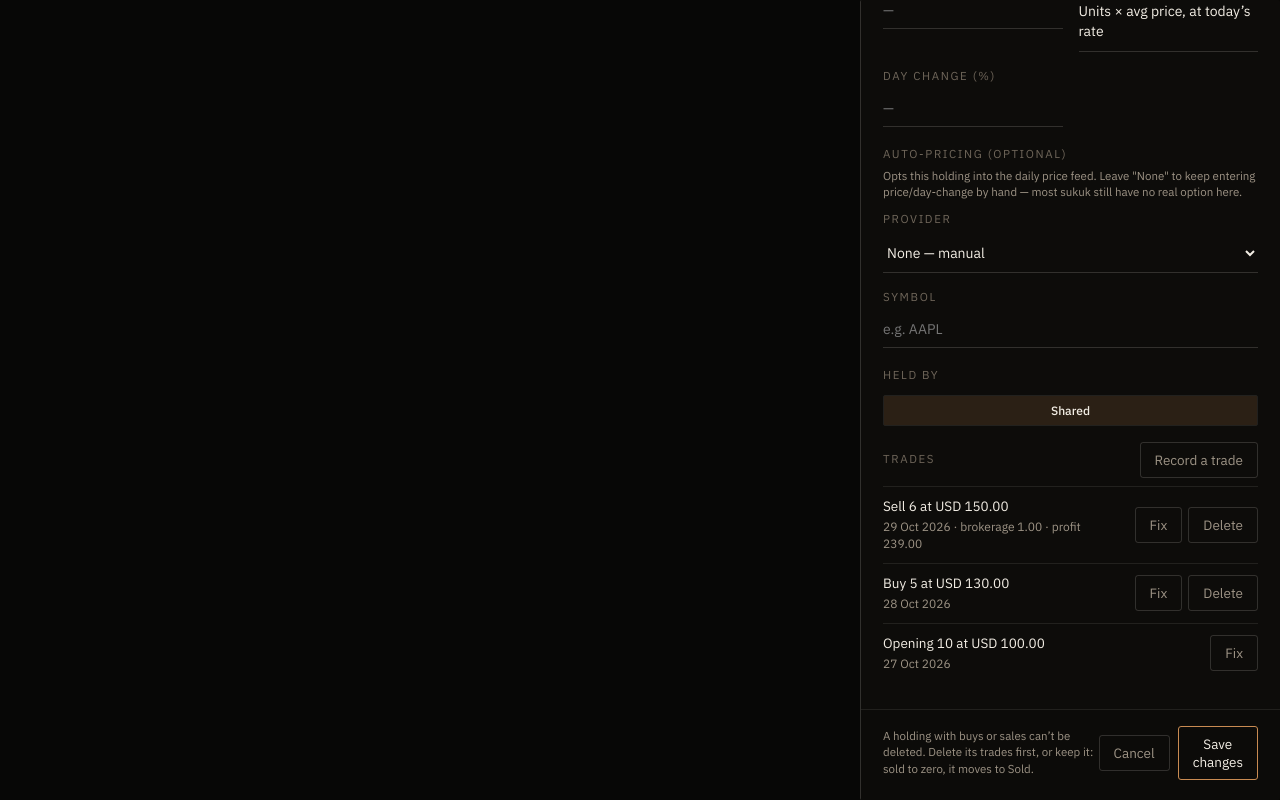
a holding's trades › asks before deleting a trade, with what it would undo
This screenshot has width=1280, height=800.
(page scrolled)
Step 1. Click the button with aria-label "Delete Sell 6 at USD 150.00" → click(1223, 525), box [1188, 507, 1258, 543]
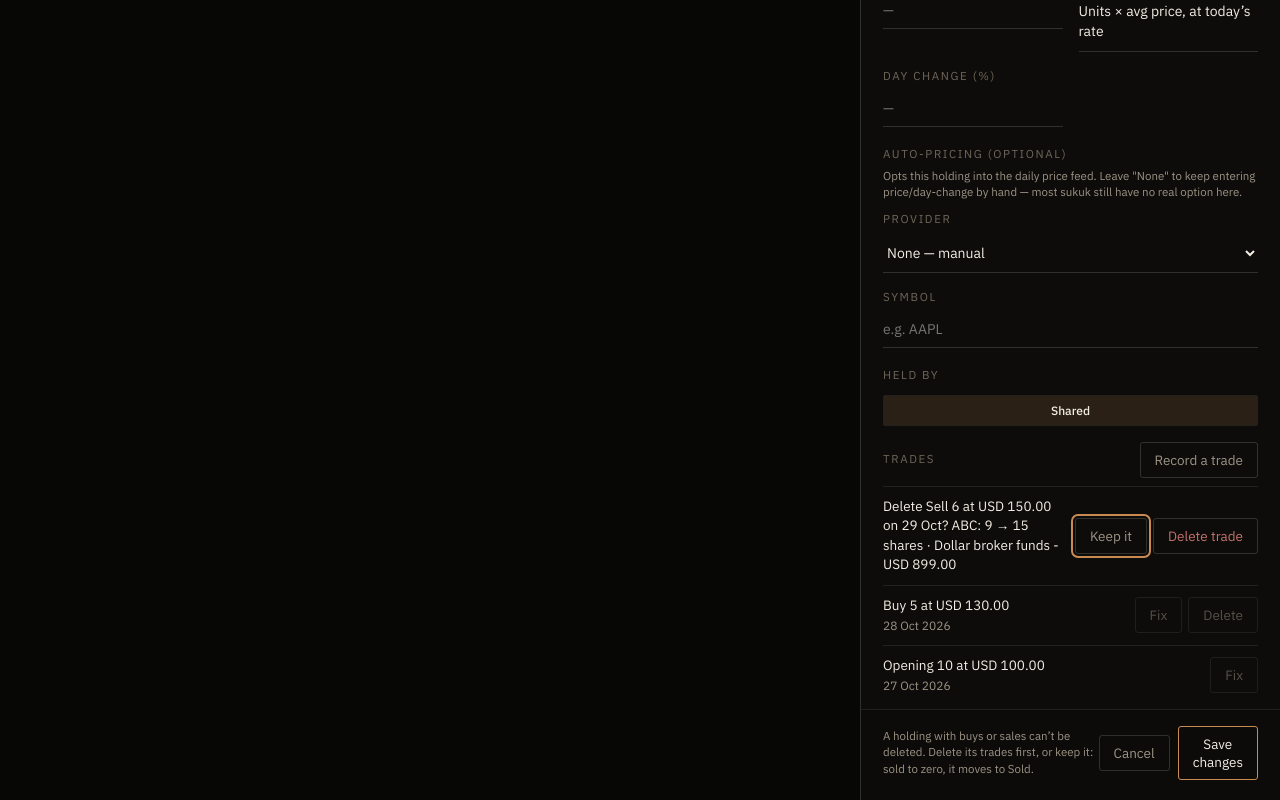
Check: the text "Delete Sell 6 at USD 150.00 on 29 Oct? ABC: 9 → 15 shares · Dollar broker funds -USD 899.00" is shown, box [883, 496, 1059, 573]
Step 2. Click the button "Keep it" → click(1111, 536), box [1075, 518, 1147, 554]
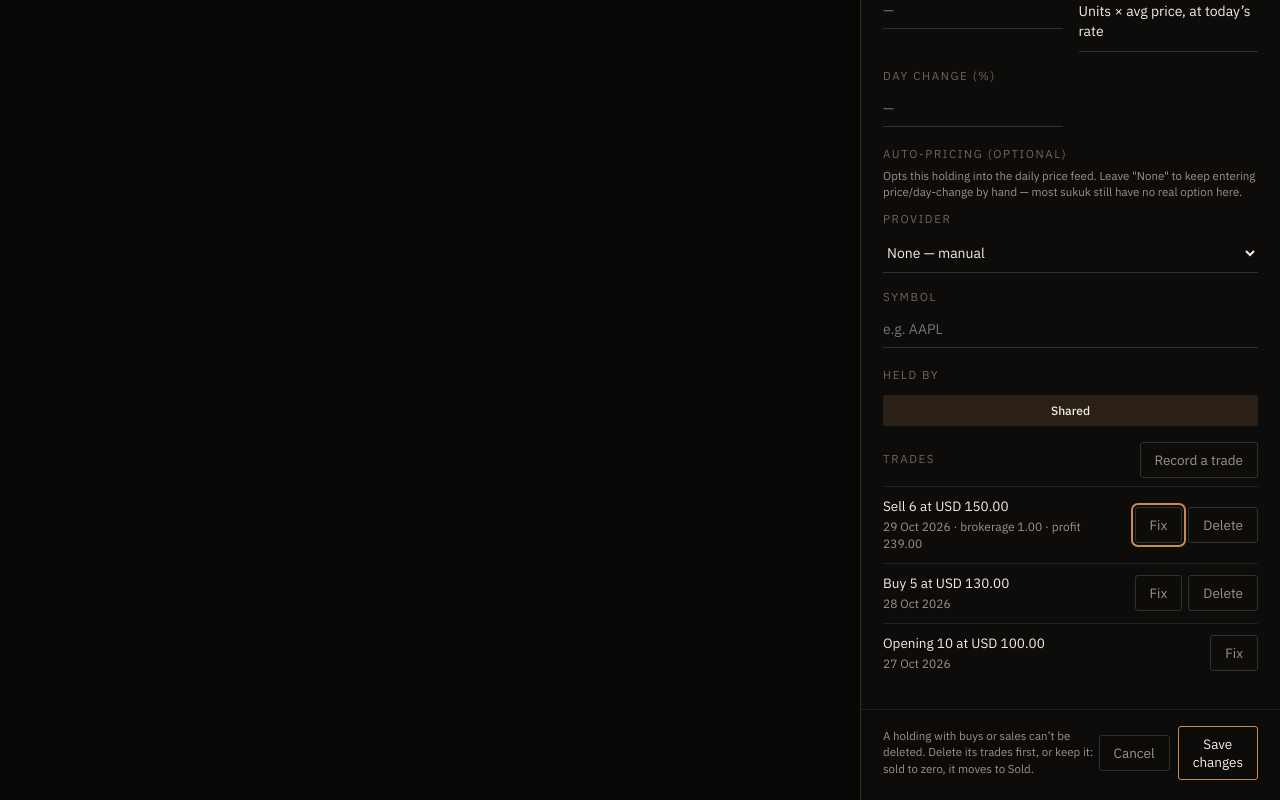
Check: the text "Delete Sell 6 at USD 150.00 on 29 Oct?" is gone
